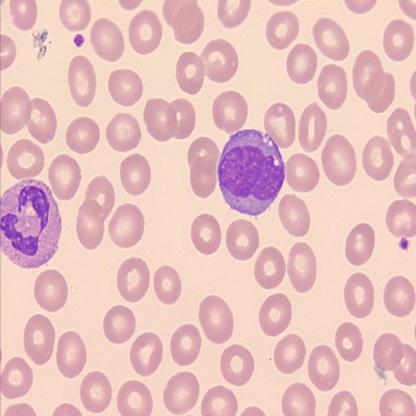Monocyte: (213, 128, 285, 219)
